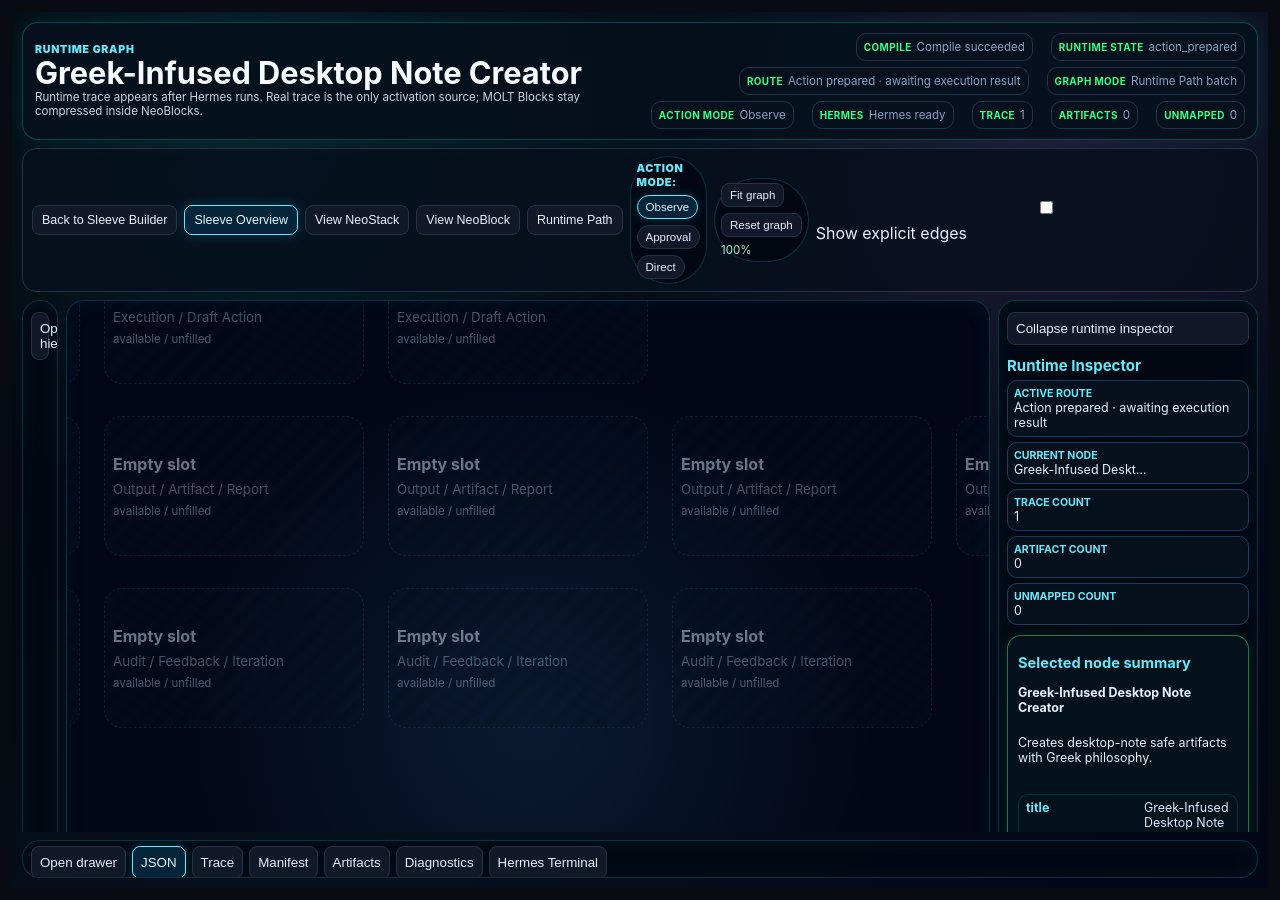
Scenario: RuntimeGeometryObserver › Observe mode prepares without external execution artifacts when only an action request is returned
This screenshot has width=1280, height=900.
Click the button "Hermes Terminal". click: (548, 862)
box: x1=489 y1=846 x2=607 y2=879
(page scrolled)
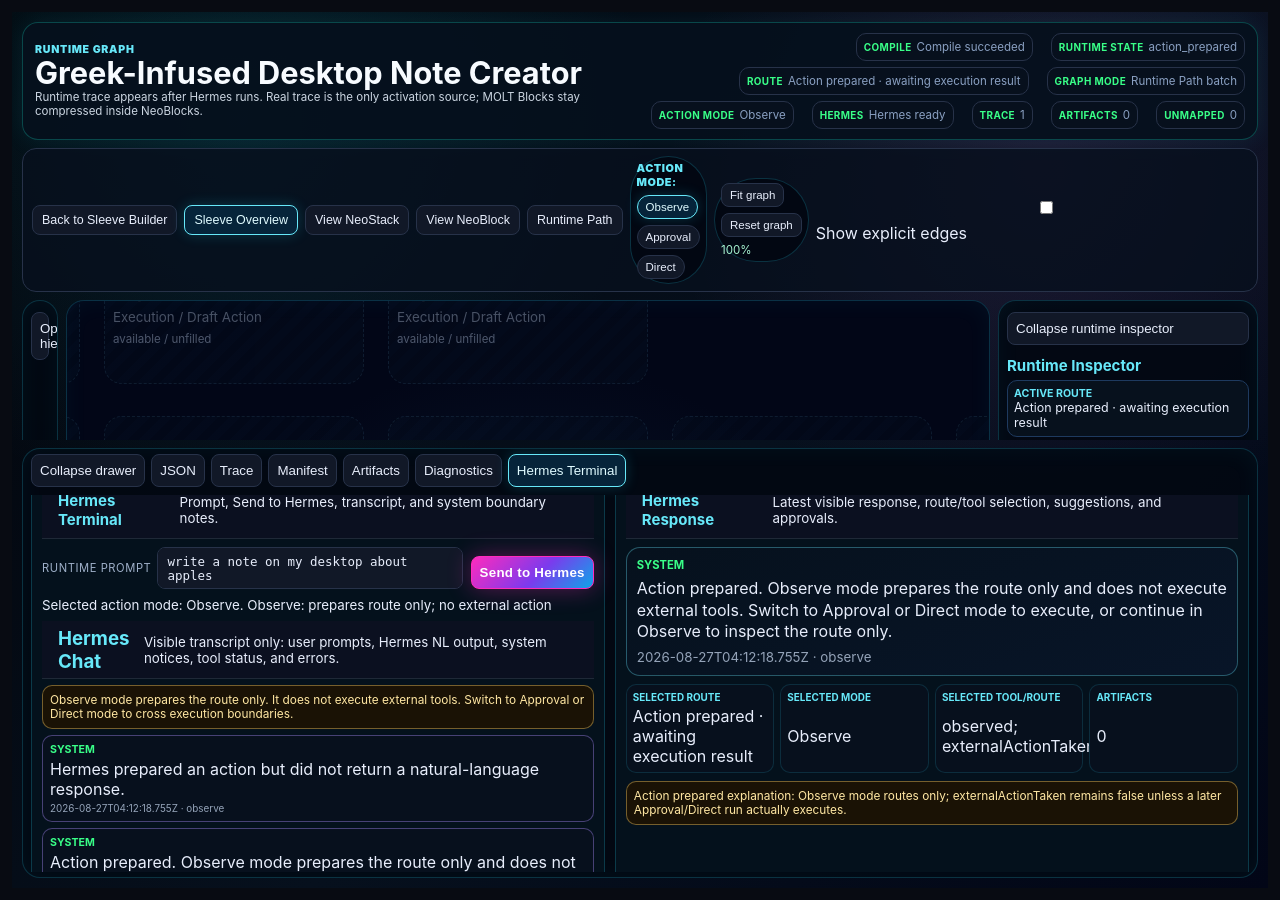
Expected: the element labelled "Hermes Response" shows "externalActionTaken remains false", x1=634 y1=789 x2=1222 y2=817
